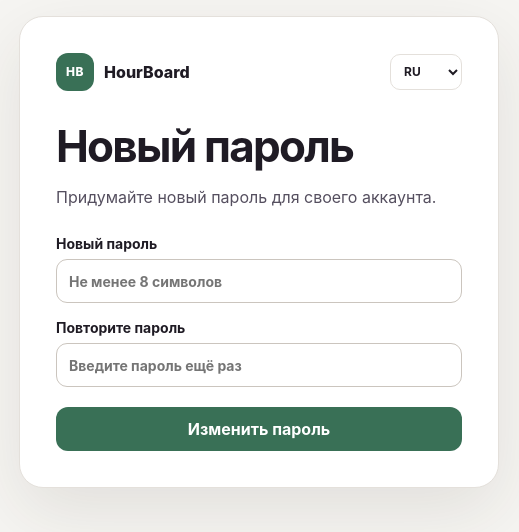
Test: UpdatePasswordPage › updates the password and shows success
Type "password123" into the password field labelled "Новый пароль" at (259, 281), box 56,259 -> 462,303
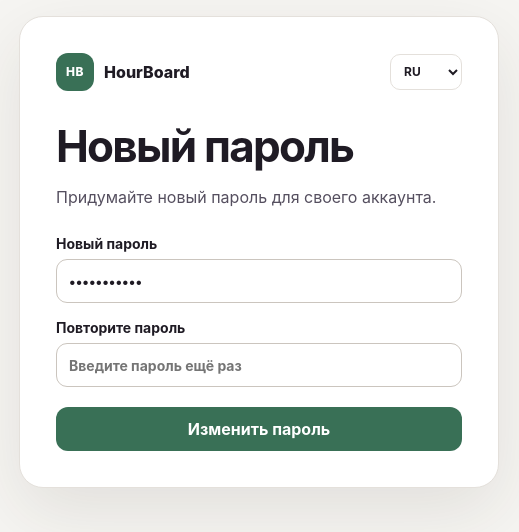
Type "password123" into the password field labelled "Повторите пароль" at (259, 365), box 56,343 -> 462,387
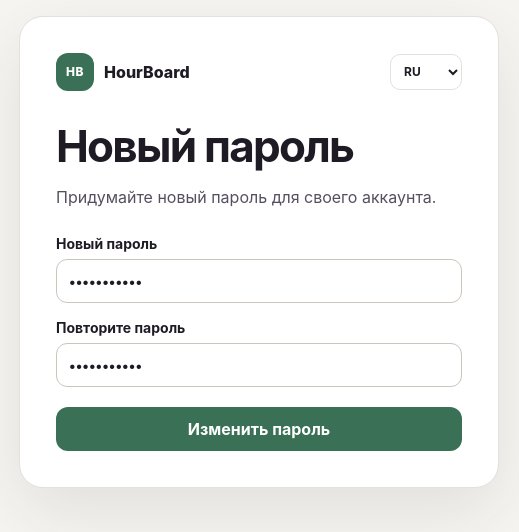
Click the button "Изменить пароль" at (259, 429), box 56,407 -> 462,451
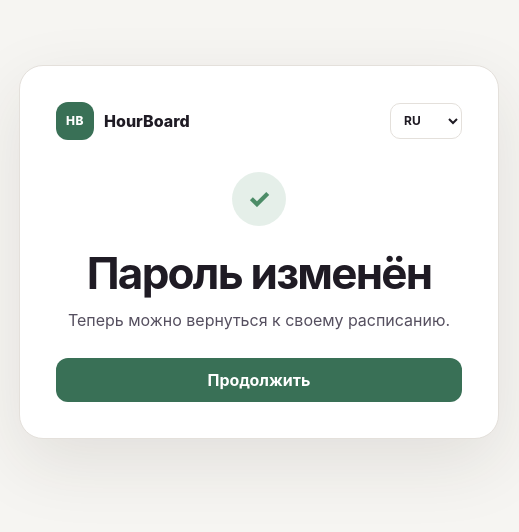
Expected: the heading "Пароль изменён" is shown, 87,246 -> 431,300
